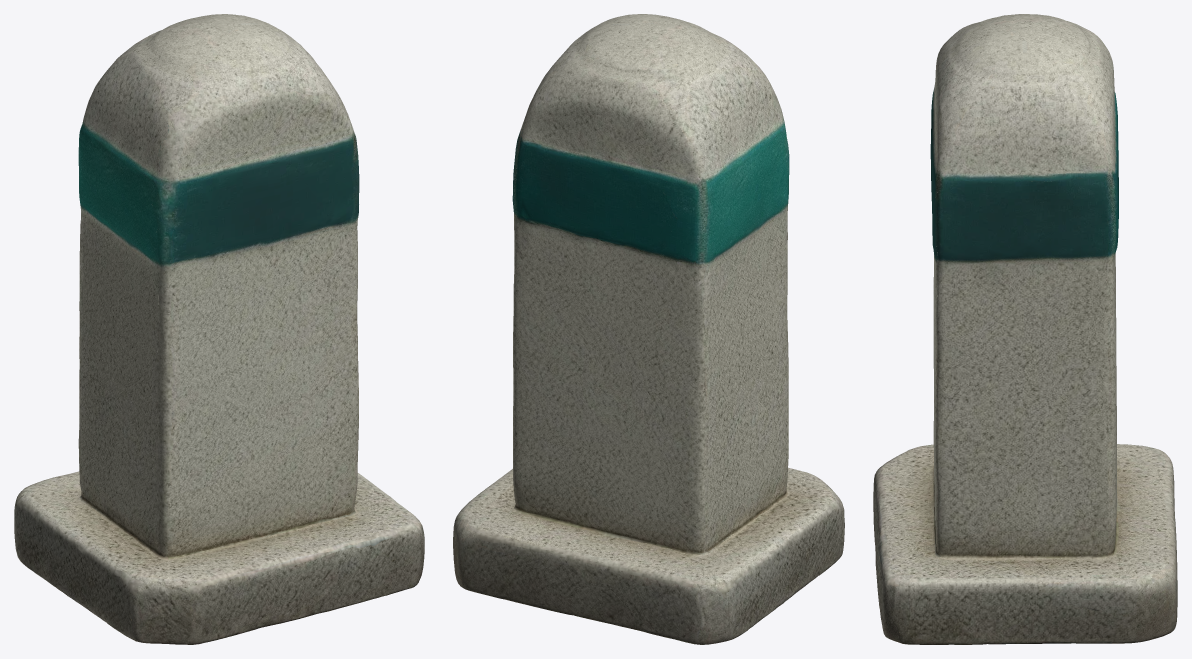
Rendered from tool-path.glb.
3 renders of one model, left to right at view 1: azimuth 30°, elevation 25°; view 2: azimuth 150°, elevation 25°; view 3: azimuth 270°, elevation 25°, orthographic. The views are drawn at different scales.
Parts seen in each view (by area): view 1: Mesh_0; view 2: Mesh_0; view 3: Mesh_0.
Part boxes in pixels (x1=…): Mesh_0: x1=14, y1=14, x2=424, y2=644; Mesh_0: x1=453, y1=14, x2=844, y2=644; Mesh_0: x1=873, y1=14, x2=1177, y2=644.
Bounding box in the file's own units: 0.5611 × 1 × 0.5052.
1 material, 1 textured.
